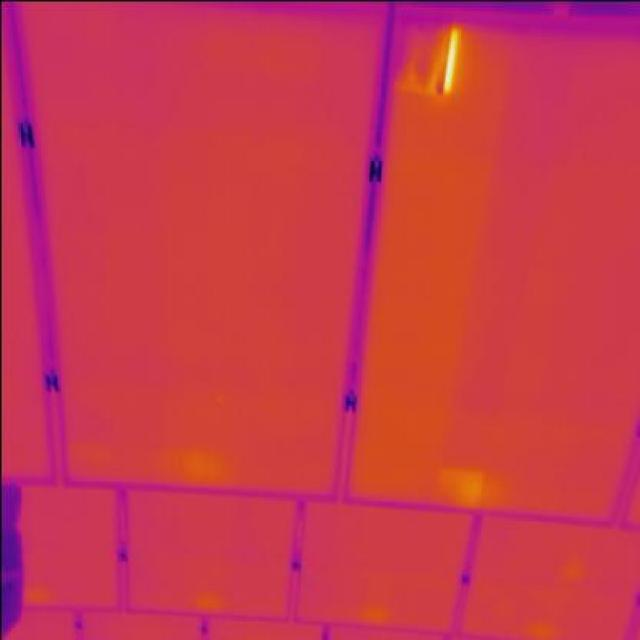hotspot: (382, 13, 466, 105)
